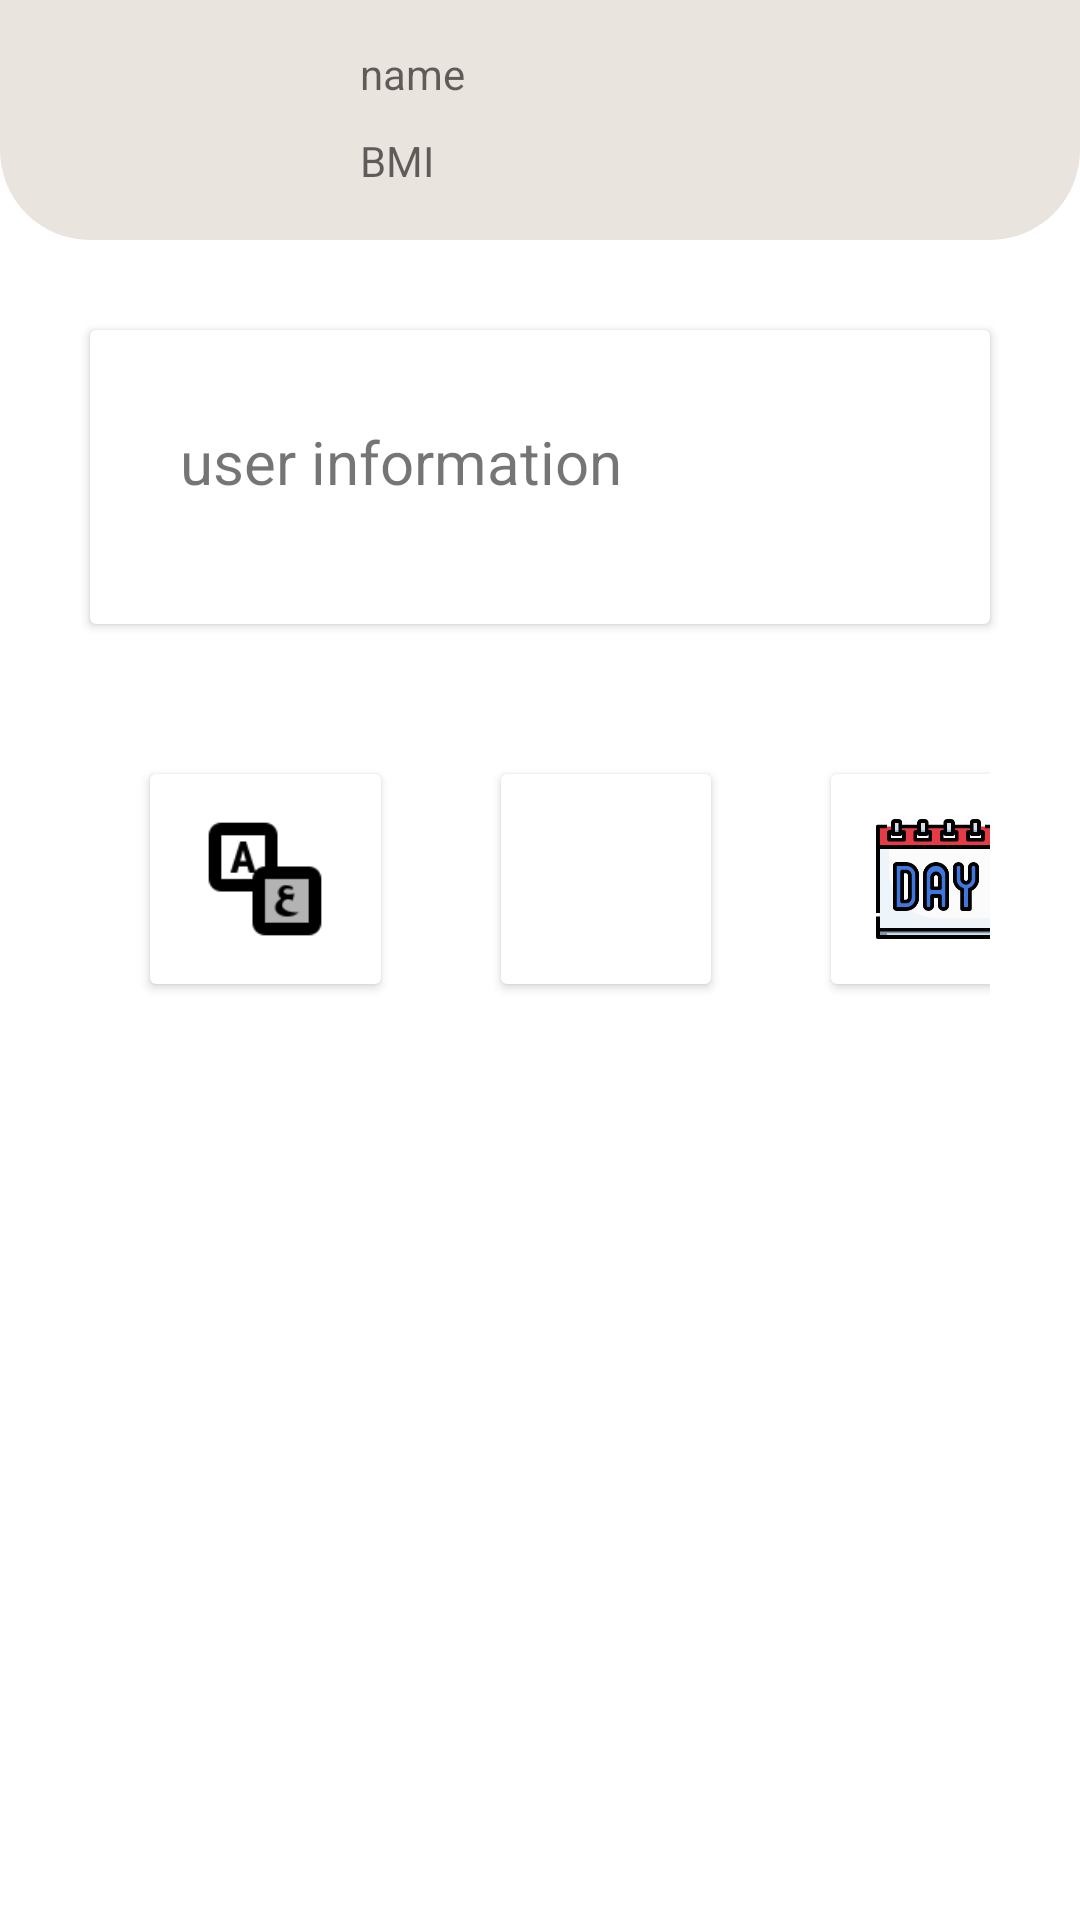

Screen size 1080x1920. Icon name, then its box in pixels as (x1, y1, x2, y2):
calendar: (876, 819, 990, 939)
english to arabic: (208, 822, 322, 936)
